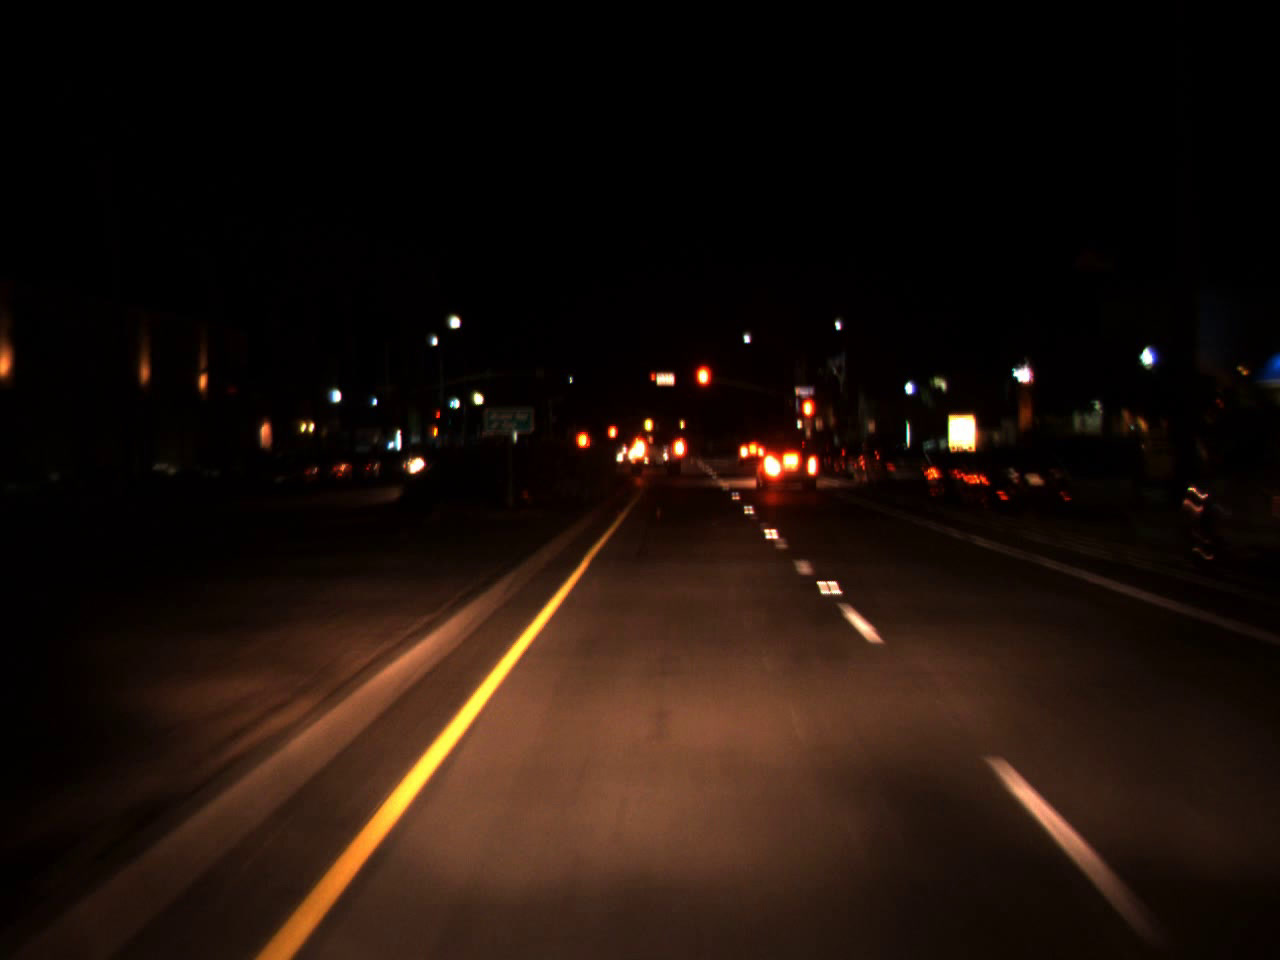stop: (799, 393, 817, 447), (693, 361, 712, 412), (651, 372, 657, 388), (435, 410, 441, 426)
